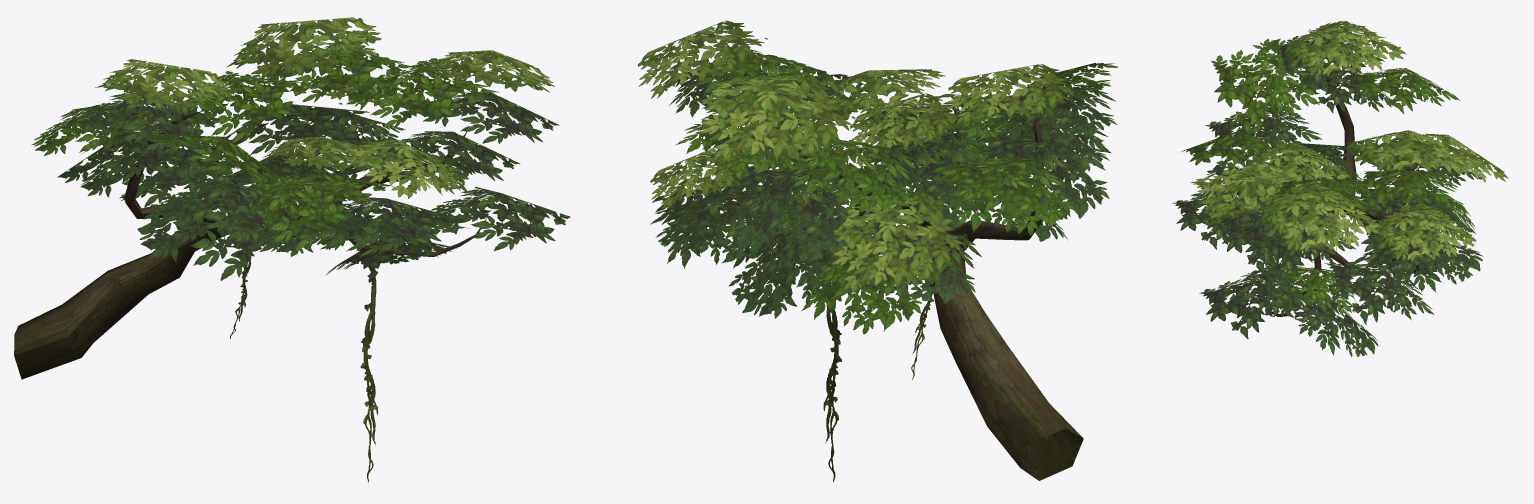
File: 4007_Item_shu_1.FBX
3 views of the same model, side by side, from view 1: azimuth 30°, elevation 25°; view 2: azimuth 150°, elevation 25°; view 3: azimuth 270°, elevation 25° (orthographic). The views are drawn at different scales.
Parts seen in each view (by area): view 1: 4007_Item_shu_1; view 2: 4007_Item_shu_1; view 3: 4007_Item_shu_1.
Boxes of the visible parts, x1,y1,x2,y2 form: 4007_Item_shu_1: (14, 17, 570, 482); 4007_Item_shu_1: (637, 20, 1118, 482); 4007_Item_shu_1: (1171, 21, 1508, 356).
Size of the model in its own units: 86.78 by 75.65 by 66.78.
